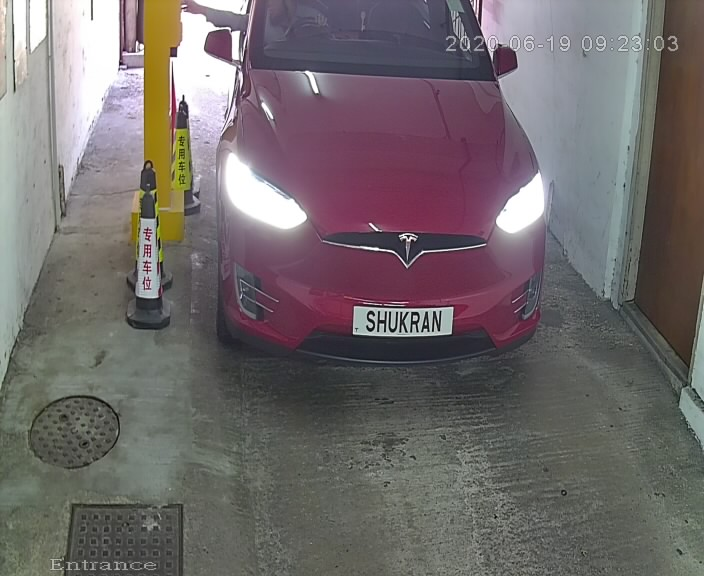privatecar: (202, 3, 554, 366)
